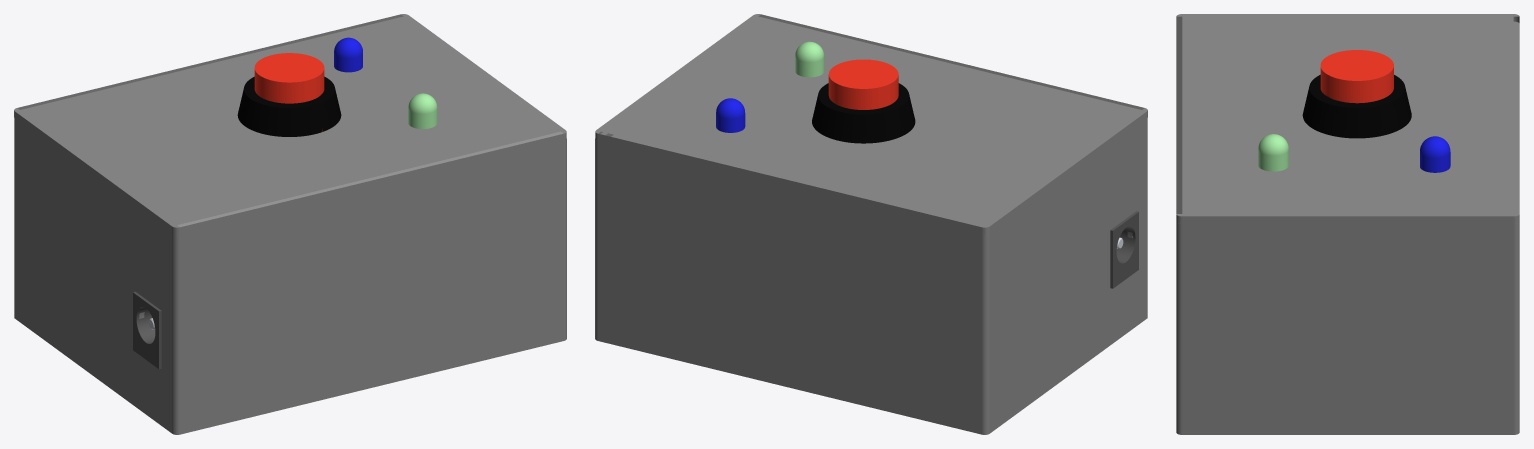
File: cajaMPNcerrada.glb
3 views of the same model, side by side, from view 1: azimuth 30°, elevation 25°; view 2: azimuth 150°, elevation 25°; view 3: azimuth 270°, elevation 25° (orthographic). The views are drawn at different scales.
Parts seen in each view (by area): view 1: caja.001, tapa.001, boton.001, obj14.002, ledVerde.001, ledAzul.001; view 2: caja.001, tapa.001, boton.001, obj14.002, ledVerde.001, ledAzul.001; view 3: caja.001, tapa.001, boton.001, ledVerde.001, ledAzul.001.
Part boxes in pixels (left/top/right/bottom): caja.001: left=14, top=118, right=566, bottom=434; tapa.001: left=14, top=14, right=566, bottom=234; boton.001: left=237, top=53, right=341, bottom=136; obj14.002: left=133, top=291, right=161, bottom=369; ledVerde.001: left=408, top=93, right=437, bottom=128; ledAzul.001: left=334, top=37, right=362, bottom=72; caja.001: left=595, top=118, right=1147, bottom=434; tapa.001: left=595, top=14, right=1147, bottom=234; boton.001: left=812, top=59, right=915, bottom=143; obj14.002: left=1110, top=211, right=1138, bottom=288; ledVerde.001: left=795, top=41, right=824, bottom=77; ledAzul.001: left=716, top=98, right=745, bottom=132; caja.001: left=1176, top=21, right=1519, bottom=434; tapa.001: left=1176, top=14, right=1519, bottom=223; boton.001: left=1302, top=50, right=1411, bottom=138; ledVerde.001: left=1258, top=134, right=1288, bottom=171; ledAzul.001: left=1420, top=136, right=1450, bottom=172.
Bounding box in the file's own units: 78.77 × 48.66 × 56.1.
7 materials, 1 textured.
